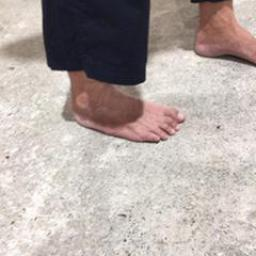Lateral View -Right Foot-: (63, 72, 189, 150)
